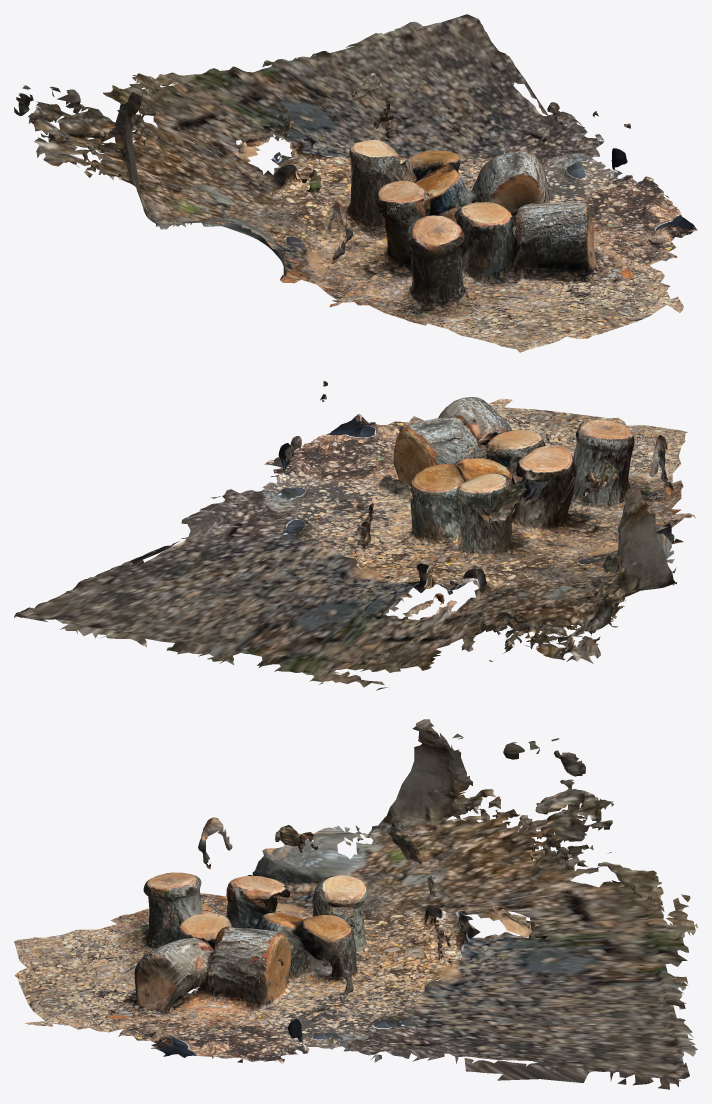
Rendered from metascan_20230505-1211.obj.
The picture shows the model from 3 angles, top to bottom: view 1: azimuth 30°, elevation 25°; view 2: azimuth 150°, elevation 25°; view 3: azimuth 270°, elevation 25°; orthographic projection. The views are drawn at different scales.
Parts seen in each view (by area): view 1: mesh_0; view 2: mesh_0; view 3: mesh_0.
Boxes of the visible parts, box(x1,y1,x2,y2) form: mesh_0: box(14, 14, 697, 352); mesh_0: box(14, 381, 695, 690); mesh_0: box(14, 719, 697, 1089).
Bounding box in the file's own units: 3.87 × 1.12 × 4.58.
Materials: 1 (1 with a texture image).
